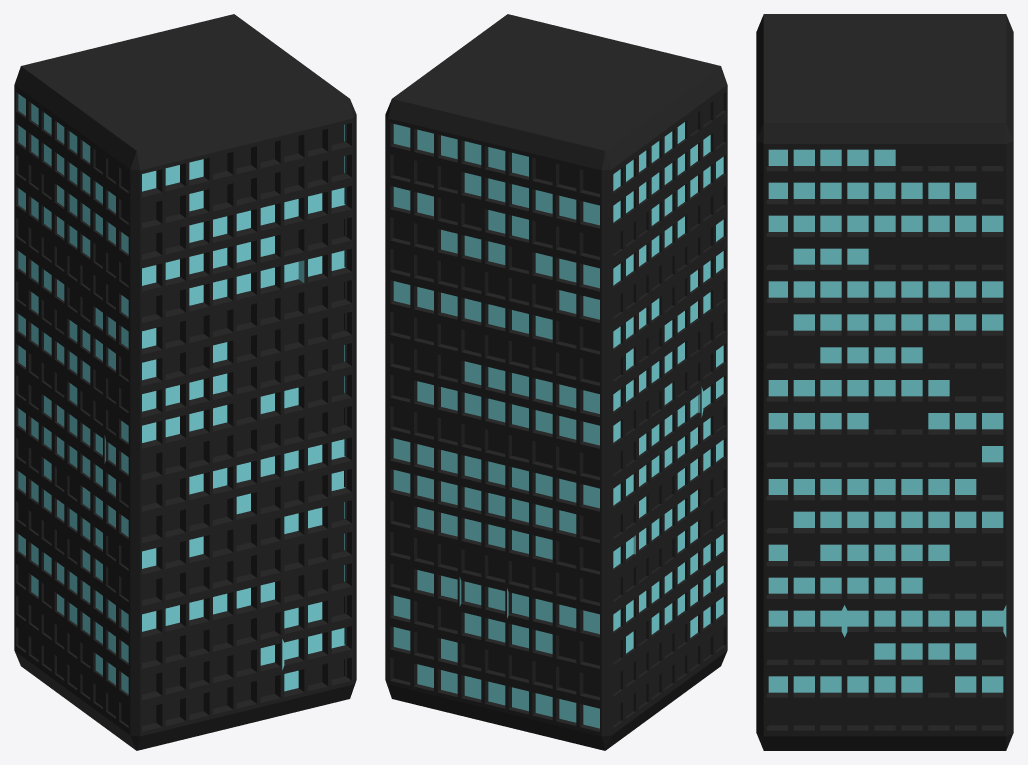
The model's file is building.fbx.
The picture shows the model from 3 angles, left to right: view 1: azimuth 30°, elevation 25°; view 2: azimuth 150°, elevation 25°; view 3: azimuth 270°, elevation 25°; orthographic projection. The views are drawn at different scales.
Visible parts, largest first — view 1: Cube; view 2: Cube; view 3: Cube.
Boxes of the visible parts, <box> form: Cube: <box>14,14,356,750</box>; Cube: <box>385,14,727,750</box>; Cube: <box>756,14,1013,750</box>.
Bounding box in the file's own units: 178 × 450 × 167.
